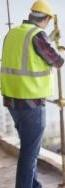hard-hat: (30, 0, 53, 17)
vest: (4, 23, 51, 101)
